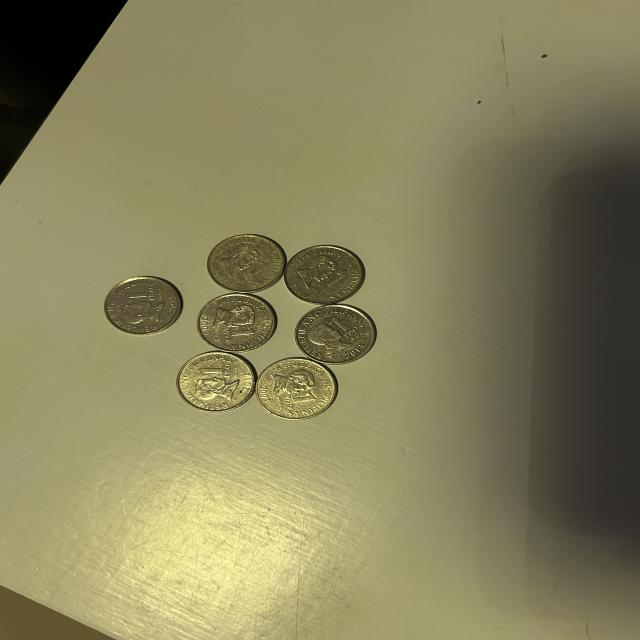1_Old_Front: (219, 242, 276, 286), (115, 286, 164, 303), (330, 312, 362, 338), (196, 359, 234, 380), (282, 390, 316, 412), (218, 324, 255, 344), (322, 268, 351, 293)
